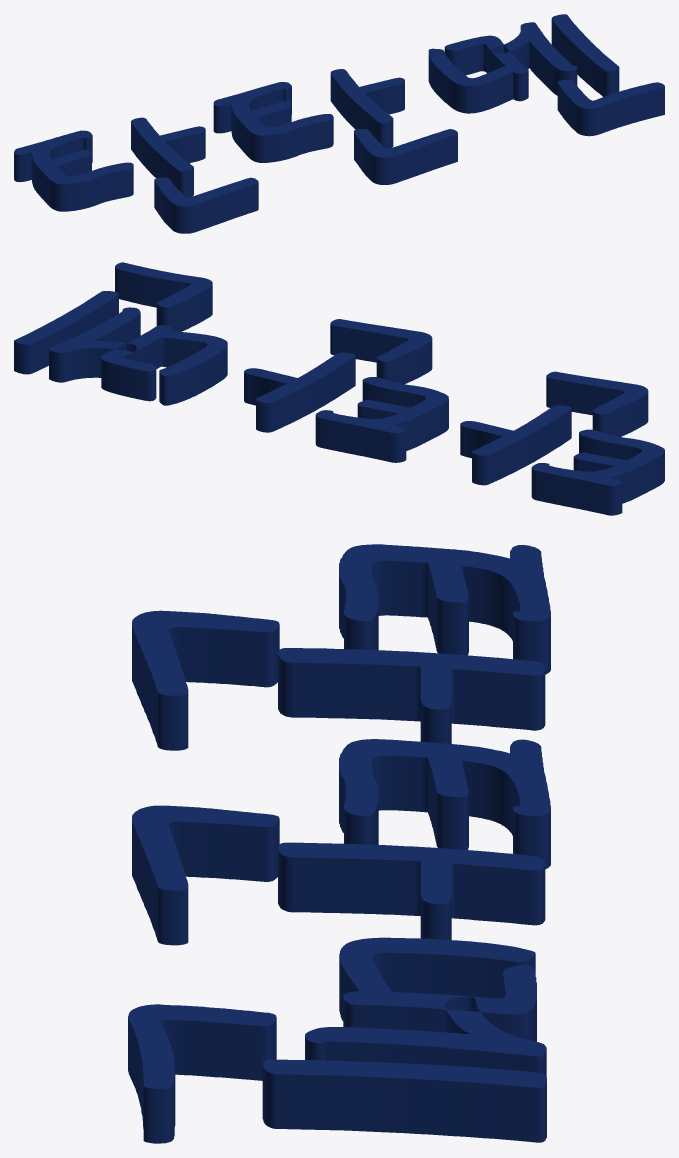
File: tantan.glb
The picture shows the model from 3 angles, top to bottom: view 1: azimuth 30°, elevation 25°; view 2: azimuth 150°, elevation 25°; view 3: azimuth 270°, elevation 25°; orthographic projection. The views are drawn at different scales.
Parts seen in each view (by area): view 1: Text; view 2: Text; view 3: Text.
Part boxes in pixels (x1,y1,x2,y2): Text: (14,14,664,233); Text: (14,262,664,515); Text: (128,544,550,1143).
Size of the model in its own units: 2.13 by 0.0999 by 0.699.
